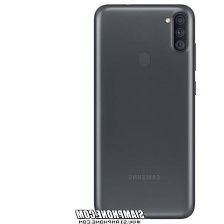phone: (89, 1, 201, 223)
